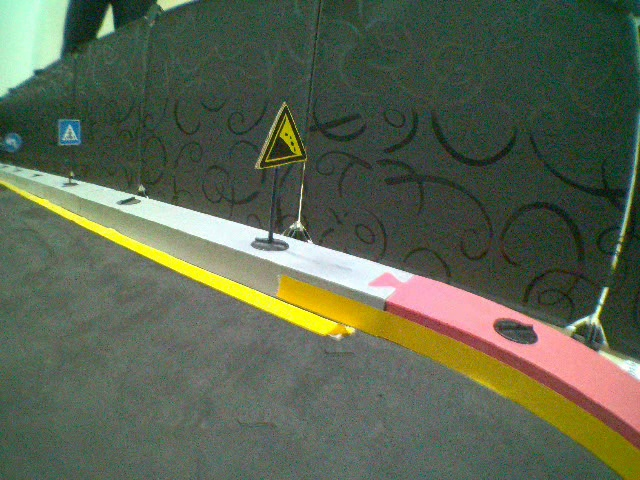crossing: (56, 118, 81, 148)
fast: (248, 100, 313, 173)
turn: (1, 131, 23, 155)
